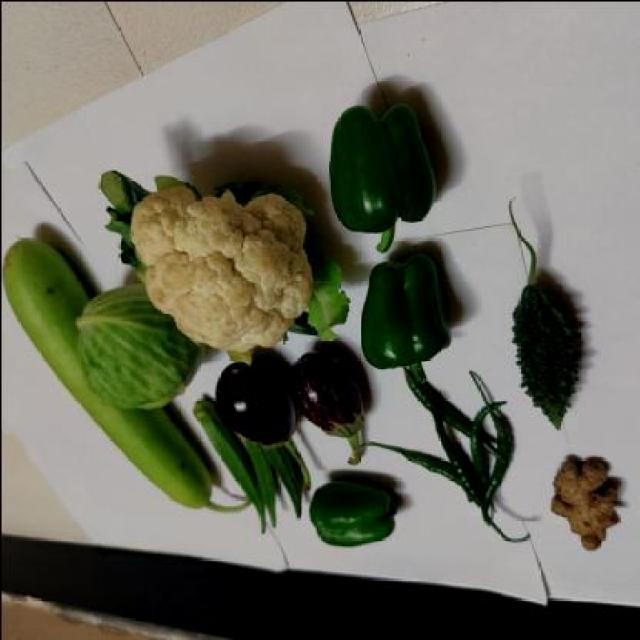Bitter melon: (503, 204, 580, 438)
Brinjal: (283, 351, 363, 462), (218, 368, 300, 456)
Cabbage: (84, 303, 190, 411)
Capsicum: (325, 95, 443, 251), (356, 256, 449, 384), (308, 477, 400, 551)
Cauliflower: (114, 182, 322, 360)
Ginger: (546, 448, 620, 552)
Green Chili: (416, 408, 522, 537)
